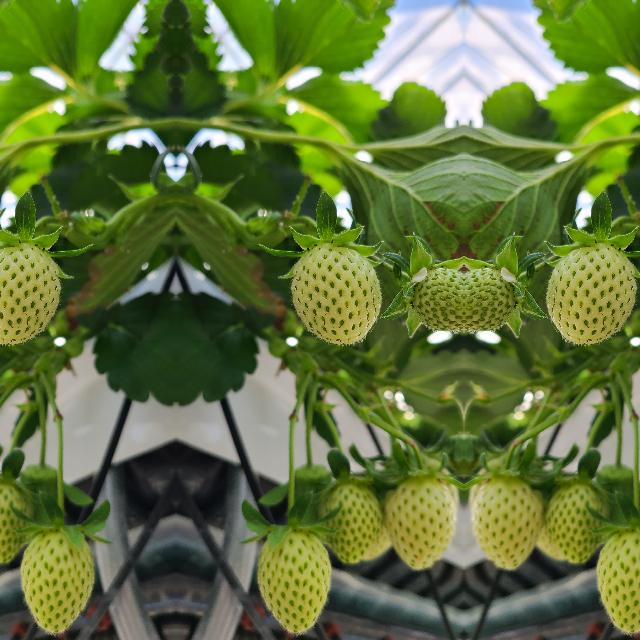Health_25: (290, 243, 380, 343), (546, 243, 636, 343), (256, 522, 330, 634), (20, 522, 94, 634), (380, 474, 458, 574), (468, 474, 546, 574), (0, 243, 60, 343), (313, 480, 383, 564), (543, 480, 613, 564), (595, 522, 640, 633), (406, 266, 462, 336), (464, 266, 520, 336), (0, 480, 37, 564)
